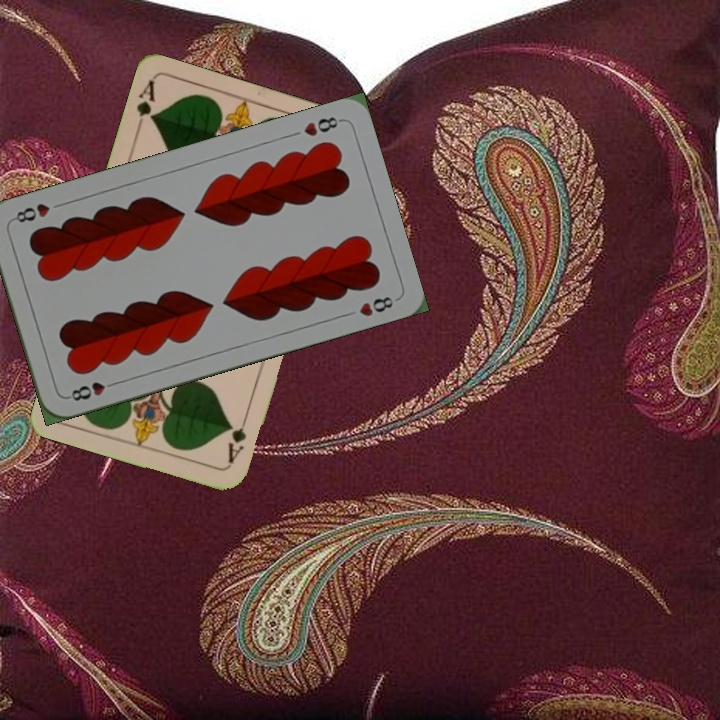GA: (224, 410, 251, 467), (132, 77, 158, 136)
H8: (63, 377, 121, 404), (299, 112, 345, 139)
